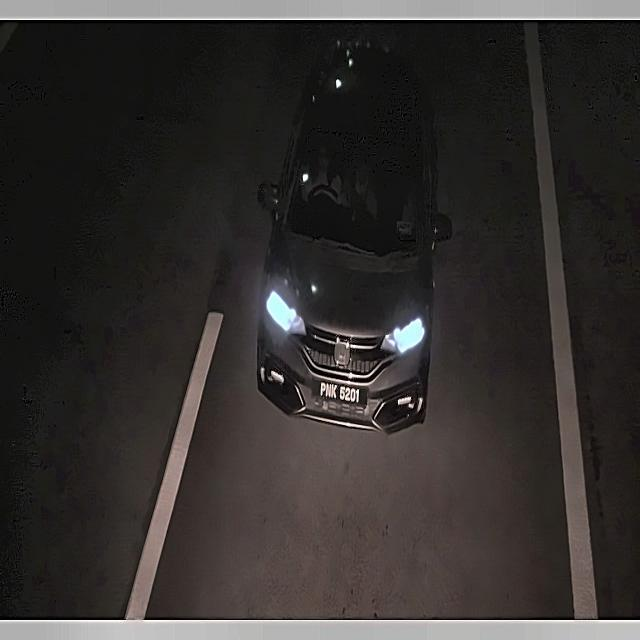car: (306, 374, 376, 415)
